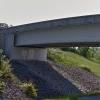Bridge: (4, 10, 96, 57)
